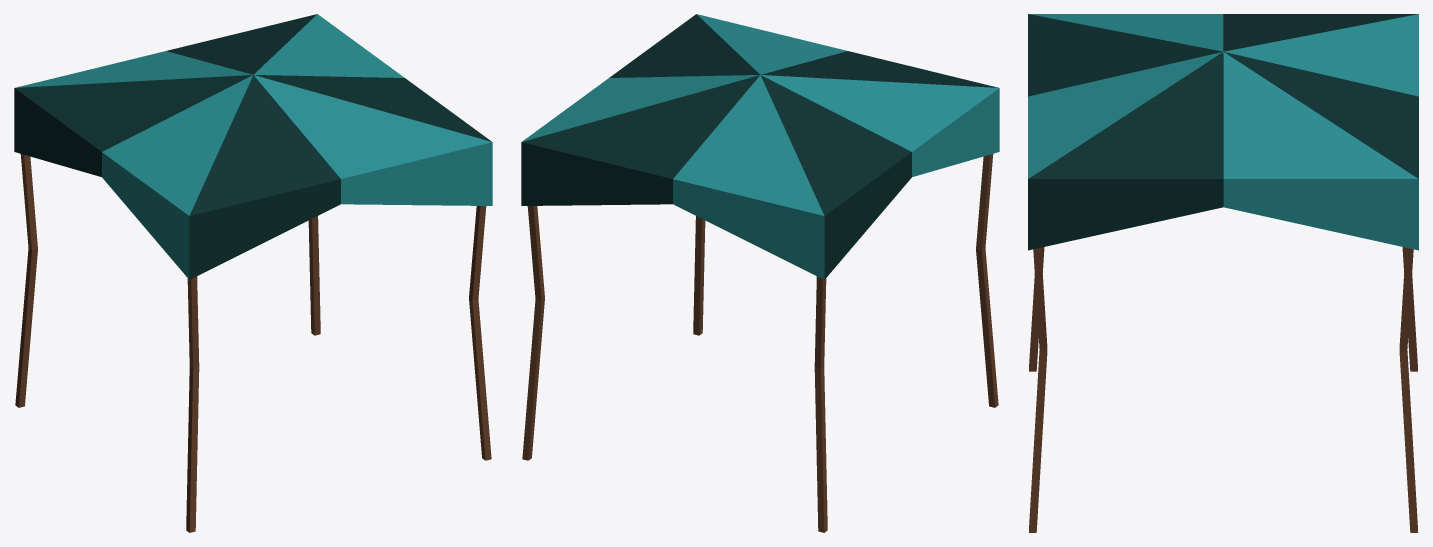
The model's file is Tent_7_Blue.fbx.
The picture shows the model from 3 angles, left to right: view 1: azimuth 30°, elevation 25°; view 2: azimuth 150°, elevation 25°; view 3: azimuth 270°, elevation 25°; orthographic projection. The views are drawn at different scales.
Visible parts, largest first — view 1: Tent_7_Blue; view 2: Tent_7_Blue; view 3: Tent_7_Blue.
Part boxes in pixels (x1,y1,x2,y2): Tent_7_Blue: (14,14,492,532); Tent_7_Blue: (521,14,999,532); Tent_7_Blue: (1028,14,1418,532).
Bounding box in the file's own units: 500 × 563 × 500.
